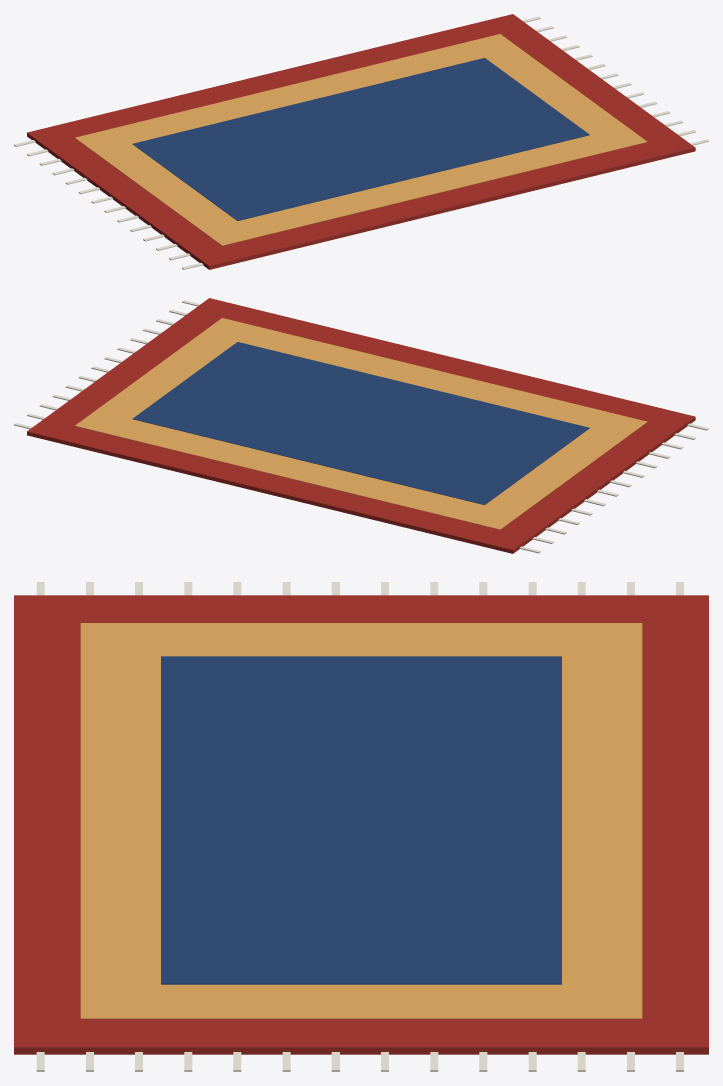
The model's file is tappeto.glb.
The picture shows the model from 3 angles, top to bottom: view 1: azimuth 30°, elevation 25°; view 2: azimuth 150°, elevation 25°; view 3: azimuth 270°, elevation 25°; orthographic projection. The views are drawn at different scales.
Parts seen in each view (by area): view 1: Cube.002, Cube, Cube.001; view 2: Cube.002, Cube, Cube.001; view 3: Cube.002, Cube, Cube.001.
Part boxes in pixels (x1,y1,x2,y2): Cube.002: (132, 58, 589, 220); Cube: (27, 14, 695, 269); Cube.001: (75, 34, 647, 245); Cube.002: (132, 342, 589, 504); Cube: (27, 298, 695, 553); Cube.001: (75, 318, 647, 529); Cube.002: (161, 656, 561, 984); Cube: (14, 595, 708, 1054); Cube.001: (80, 623, 642, 1018).
Size of the model in its own units: 2.16 by 0.018 by 1.3.
